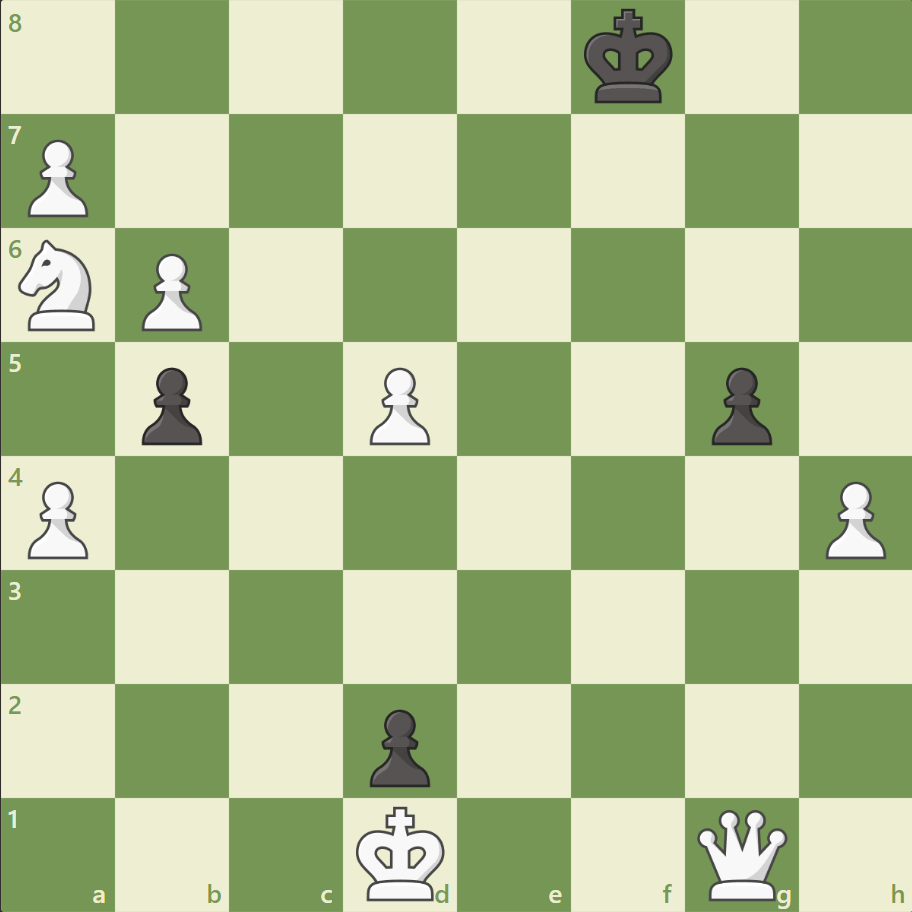K: (351, 798, 451, 906)
N: (11, 234, 108, 337)
P: (20, 132, 95, 223), (133, 246, 208, 337), (20, 473, 95, 564), (361, 359, 435, 450), (815, 473, 889, 564)
Q: (691, 804, 790, 903)
k: (579, 4, 679, 112)
p: (133, 359, 208, 450), (701, 359, 776, 450), (361, 700, 435, 791)
